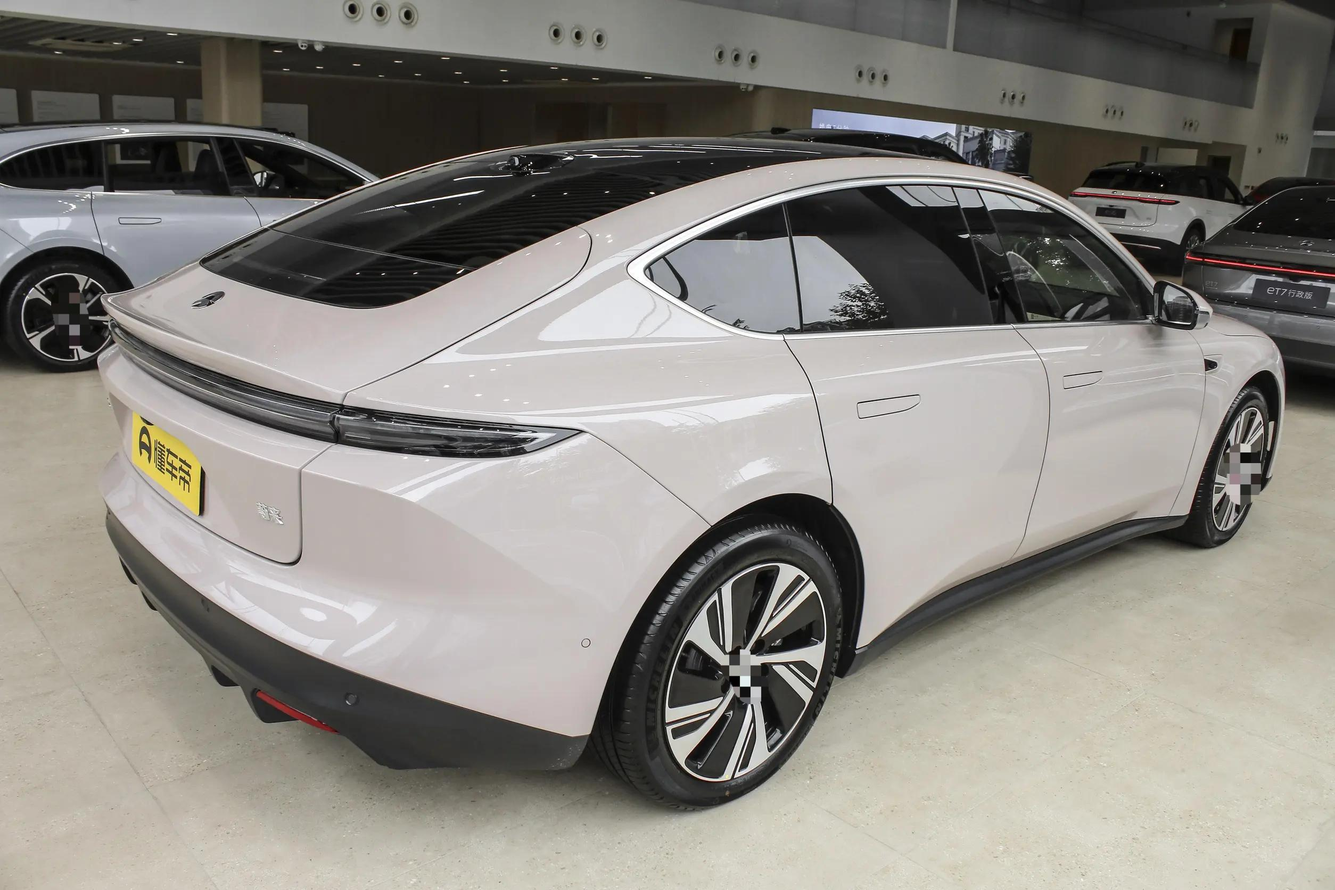NIO: (190, 291, 225, 311)
